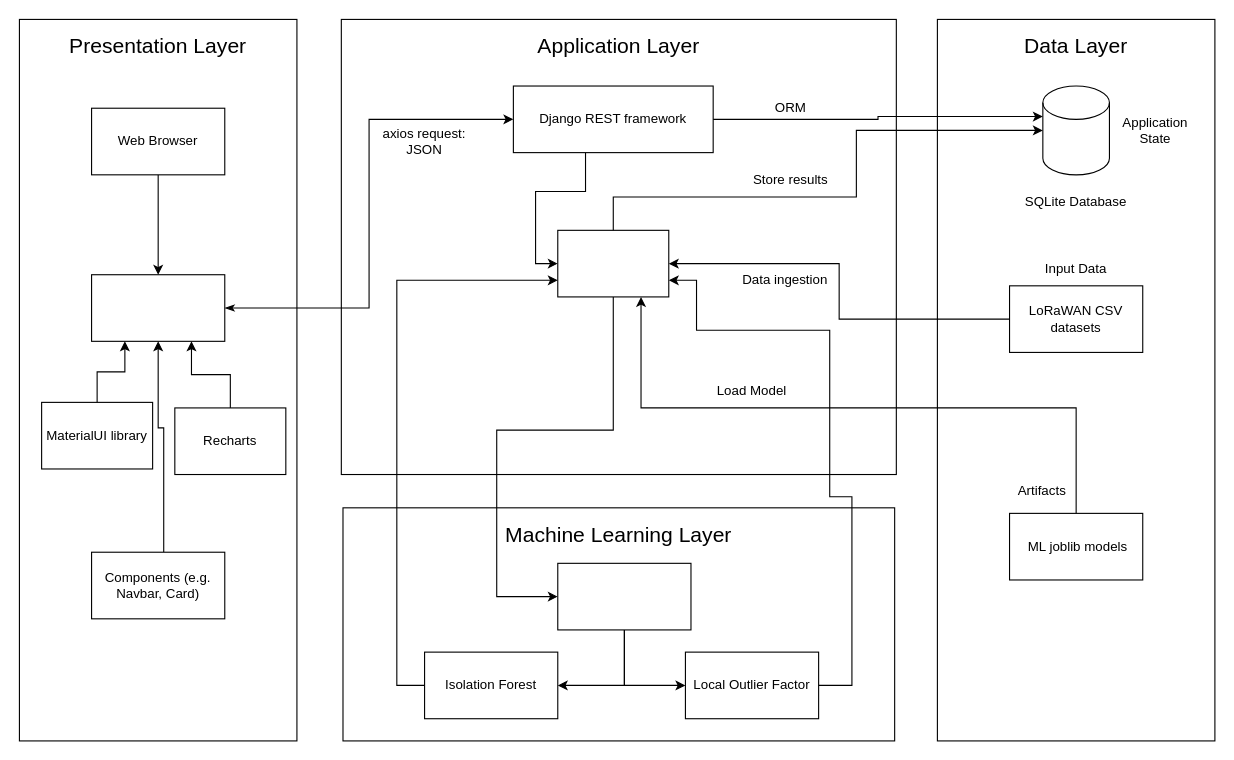
This 1234x760 diagram has some shape labels left out. The box of each missing label's shape, as (x1, y1, x2, y2) in pixels:
ML Service: (557, 229, 669, 297)
Preprocessing: (557, 562, 691, 630)
React Frontend: (90, 274, 225, 341)
